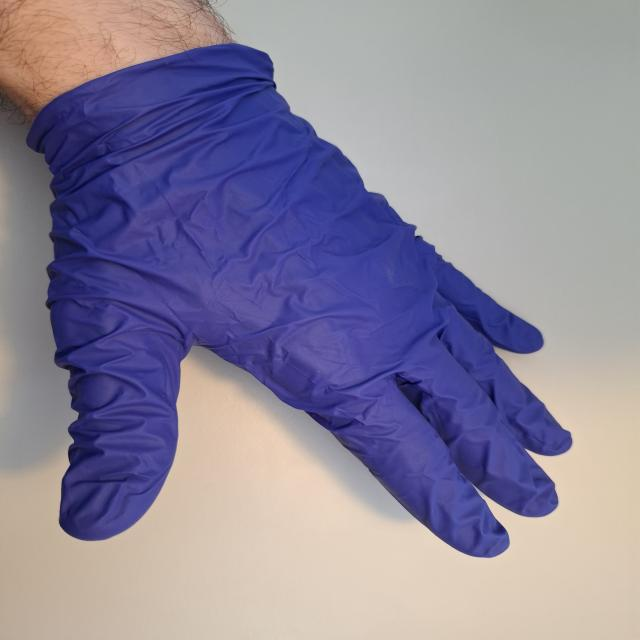glove_on: (23, 44, 577, 563)
